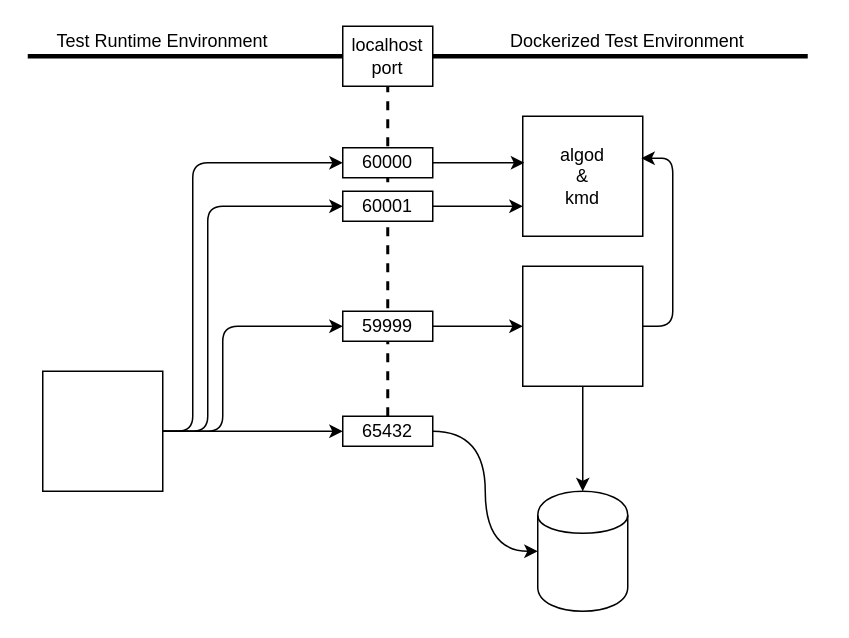
This 849x638 diagram has some shape labels left out. Each missing label, with the centre of its shape:
indexer: (x=582, y=325)
Postgres: (x=582, y=550)
Test Driver (IDE, CLI, container): (x=102, y=430)
